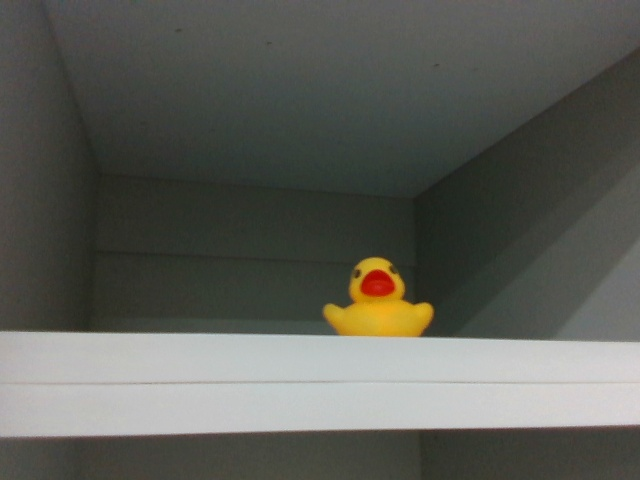duck: (325, 245, 436, 342)
